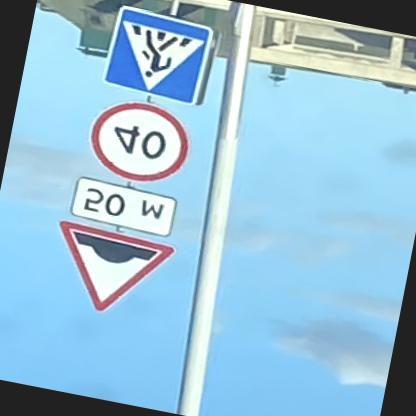crosswalk: (95, 5, 212, 106)
speedlimit: (80, 92, 194, 190)
